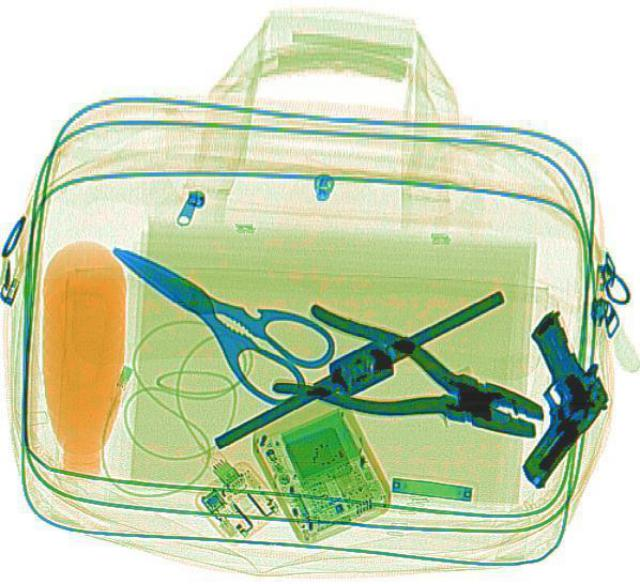Gun: (447, 309, 638, 484)
Pliers: (268, 300, 560, 469)
Scissors: (78, 212, 346, 410)
